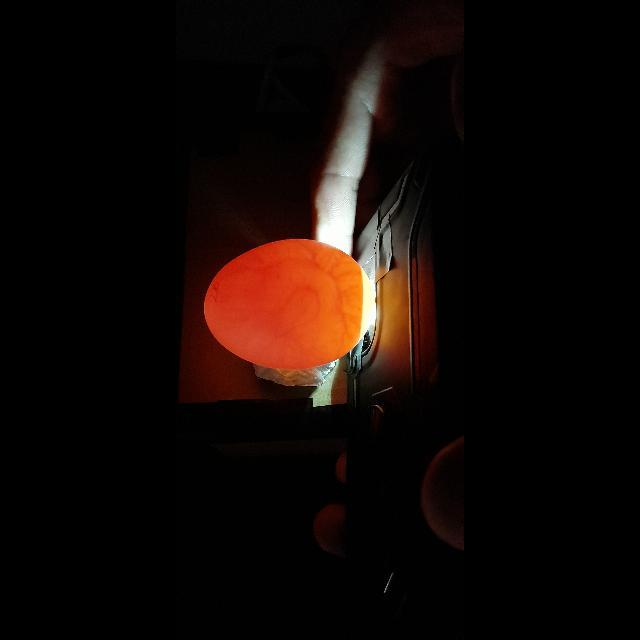Fertile: (193, 234, 379, 370)
